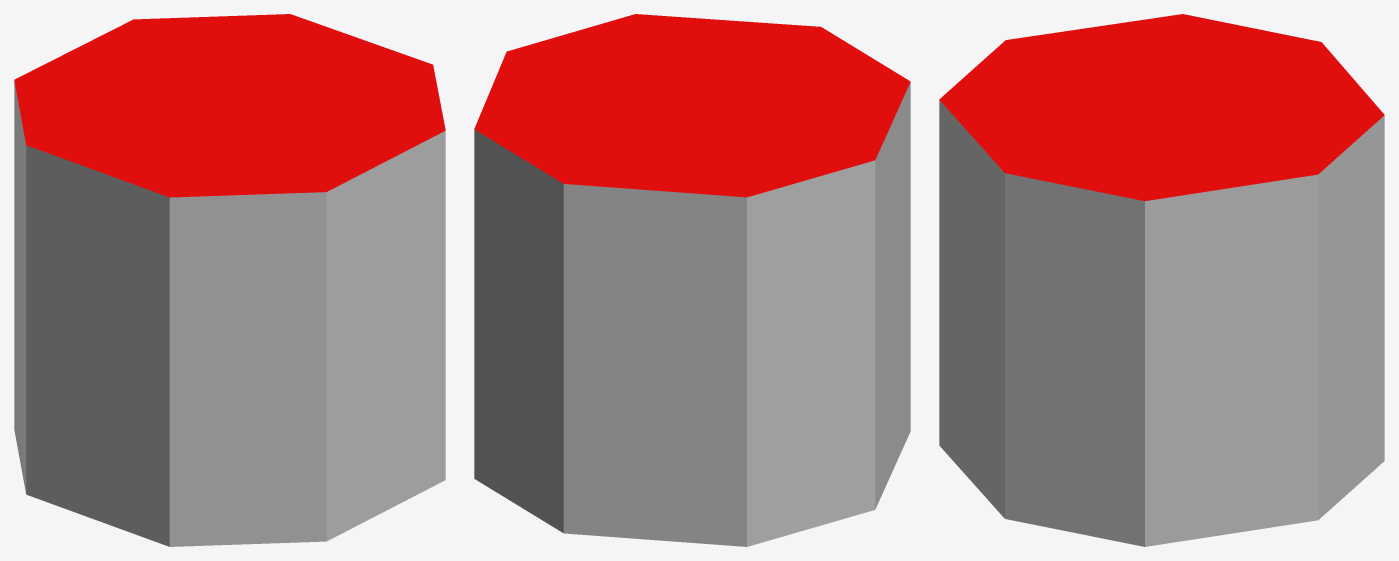
3 renders of one model, left to right at view 1: azimuth 30°, elevation 25°; view 2: azimuth 150°, elevation 25°; view 3: azimuth 270°, elevation 25°, orthographic.
Bounding box in the file's own units: 3.48 × 3 × 3.5.
